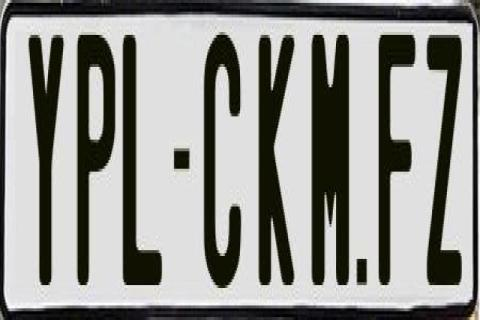C: (202, 27, 246, 297)
F: (379, 35, 416, 299)
K: (259, 26, 294, 294)
L: (122, 29, 168, 291)
M: (312, 35, 352, 294)
P: (73, 35, 116, 285)
Y: (28, 26, 70, 288)
Z: (426, 29, 460, 294)
